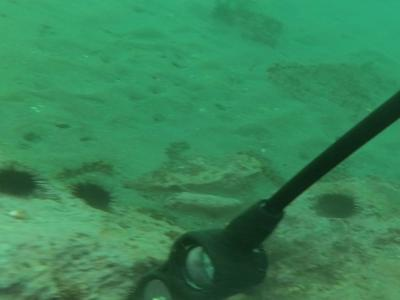holothurian: (21, 254, 87, 295), (50, 160, 115, 180)
urchin: (2, 165, 41, 200), (73, 181, 116, 210), (314, 192, 358, 218)
